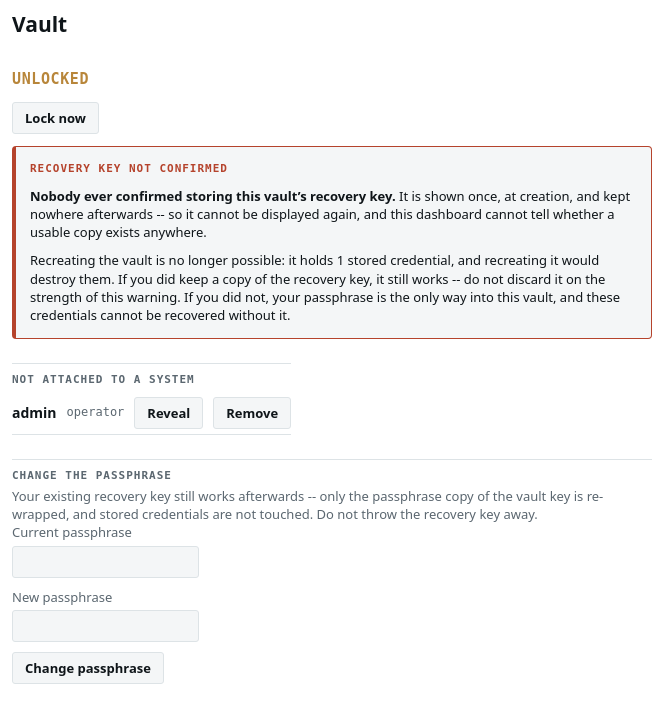
Test: VaultPanel › locking clears a previously revealed secret › Lock now hides a revealed secret and returns to the Locked view
Click the button with test id "reveal-c1" at (169, 413), box [134,396,203,429]
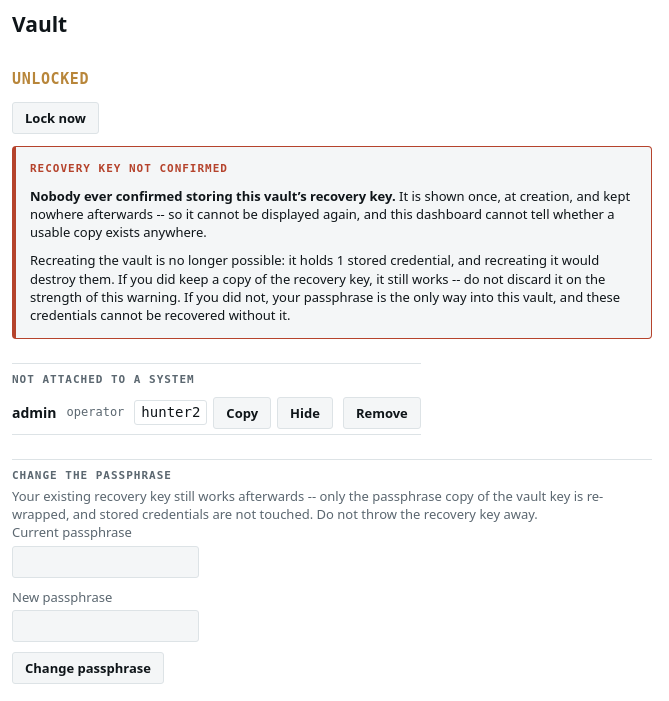
Expected: the text "hunter2" is shown, [134,400,207,425]
Click the button "Lock now" at (56, 118), box [12,102,99,134]
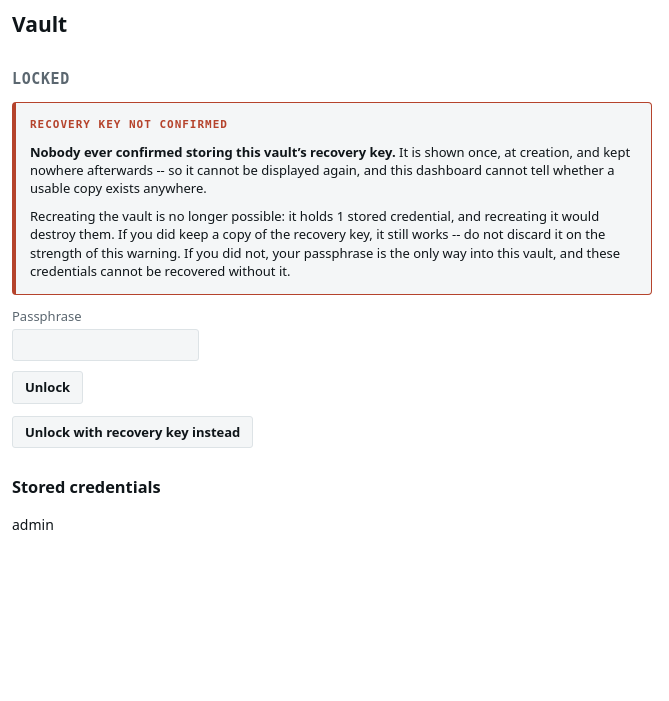
Expected: the text "Locked" is shown, [12,69,70,90]
Expected: the text "hunter2" is gone
